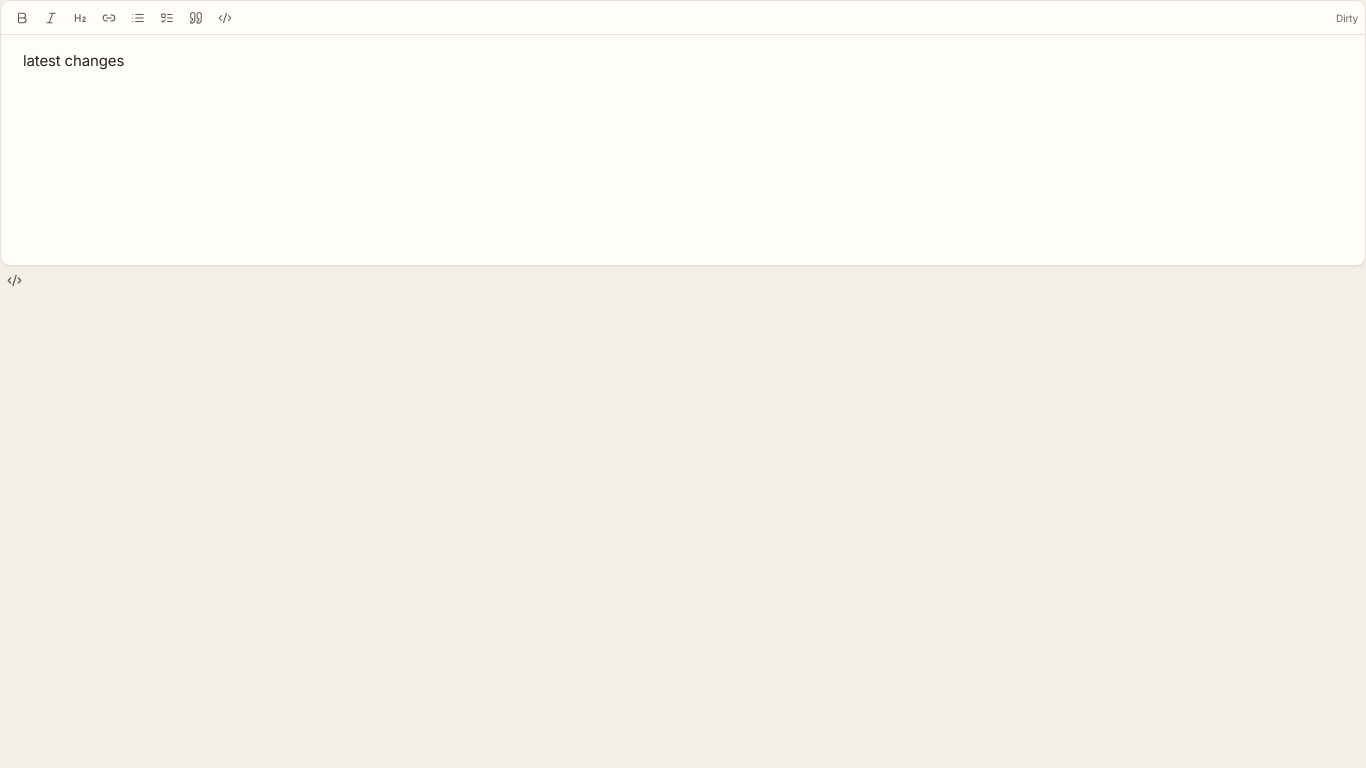
it: shows source read failures without switching away from the task
The image size is (1366, 768).
Click the button named "Edit source". click: x=14, y=280
box: top-left (0, 266), bottom-right (28, 294)
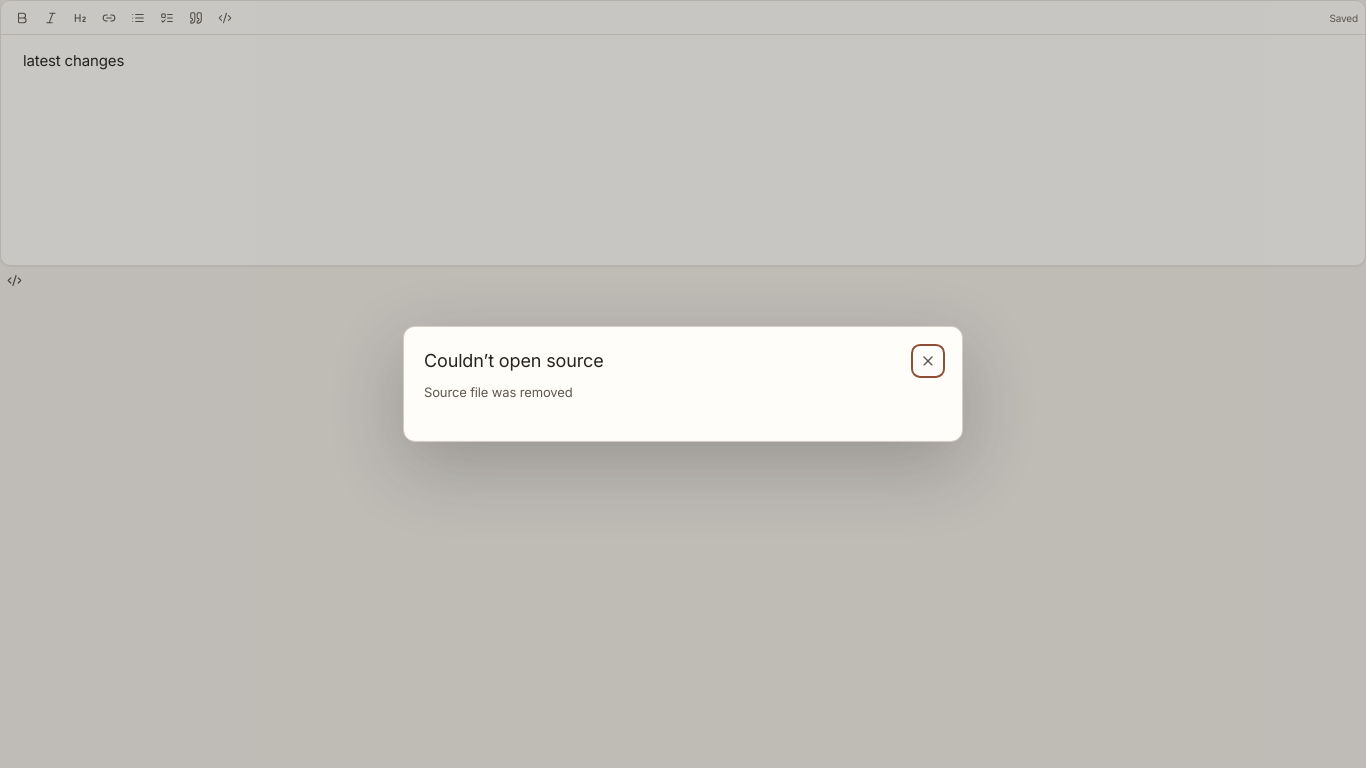
Expected: the dialog shows "Source file was removed", top-left (424, 384), bottom-right (572, 400)
